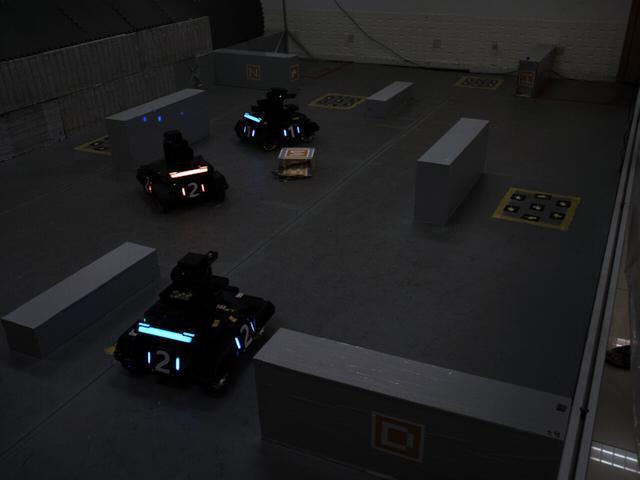armor: (137, 347, 184, 380), (228, 320, 258, 352), (176, 179, 209, 200), (236, 118, 259, 142), (278, 121, 304, 141)
